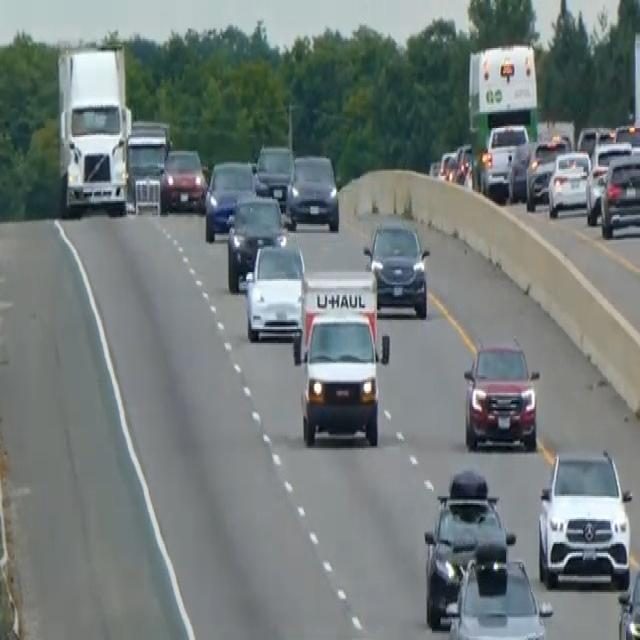car: (422, 468, 515, 628), (536, 444, 632, 590), (445, 546, 552, 638), (462, 336, 540, 452), (363, 217, 430, 318), (243, 235, 306, 341), (226, 192, 285, 292), (203, 156, 255, 242), (285, 151, 340, 231), (585, 140, 632, 224), (479, 121, 529, 195), (524, 135, 570, 212), (599, 150, 639, 238), (547, 147, 591, 217), (160, 146, 205, 212), (253, 142, 294, 210), (506, 137, 537, 203), (617, 558, 639, 638), (584, 162, 608, 224), (576, 123, 614, 158), (447, 142, 473, 187), (614, 121, 639, 158)
lorry: (55, 39, 133, 217), (125, 128, 167, 213)
truck: (291, 268, 390, 448)
